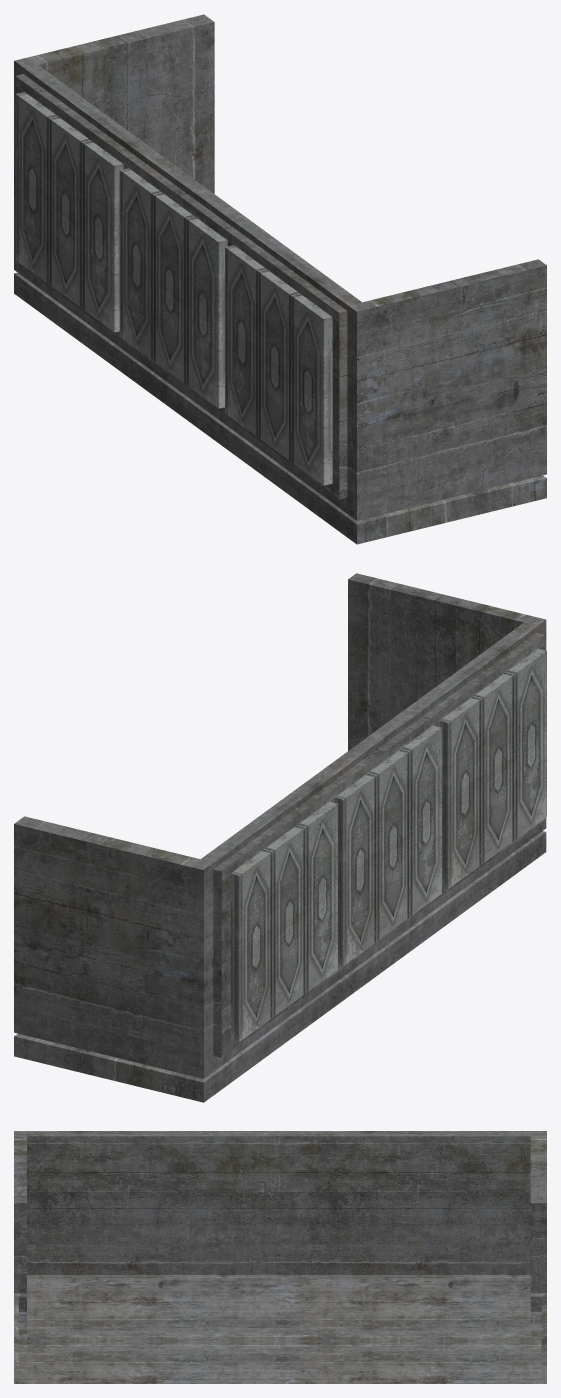
The model's file is civ_balcony_d.FBX.
3 renders of one model, top to bottom at view 1: azimuth 30°, elevation 25°; view 2: azimuth 150°, elevation 25°; view 3: azimuth 270°, elevation 25°, orthographic. The views are drawn at different scales.
Parts seen in each view (by area): view 1: civ_balcony_d; view 2: civ_balcony_d; view 3: civ_balcony_d.
Part boxes in pixels (bbox=[...]): civ_balcony_d: bbox=[14, 14, 546, 544]; civ_balcony_d: bbox=[14, 573, 546, 1102]; civ_balcony_d: bbox=[14, 1131, 546, 1383].
Bounding box in the file's own units: 105 × 112 × 300.
